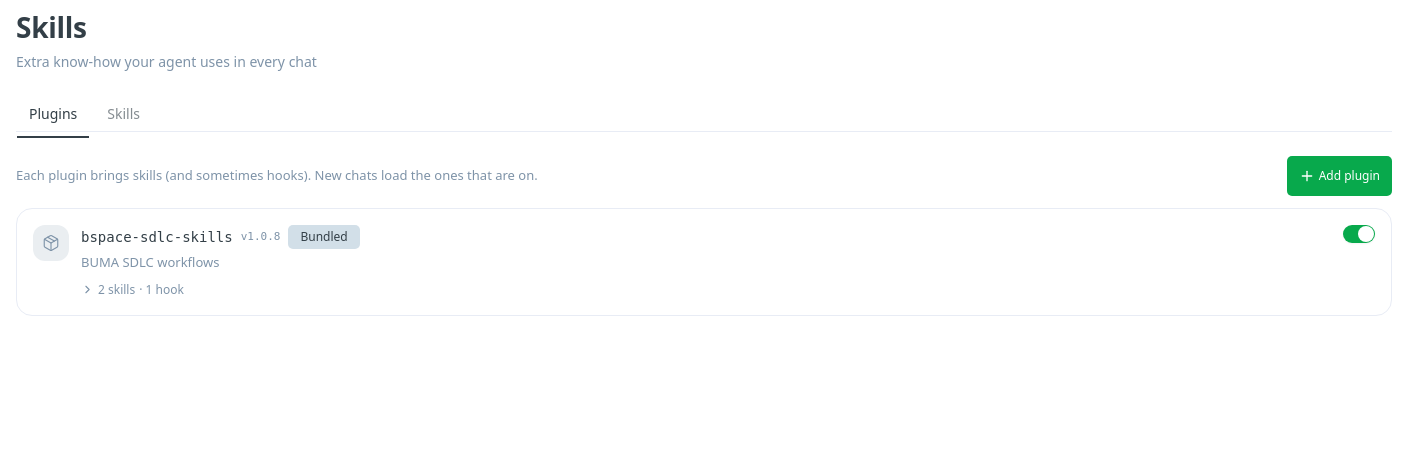
Test: Skills screen › opens on Plugins with the bundled plugin folded to one card; Skills has the user's own
Expected: the element with test id "plugin-bspace-sdlc-skills-bundled" shows "v1.0.8", [16,208,1392,316]
Expected: the element with test id "plugin-bspace-sdlc-skills-bundled" shows "Bundled", [300,228,348,245]
Click the button "2 skills · 1 hook" at [132, 290], box [81,280,184,298]
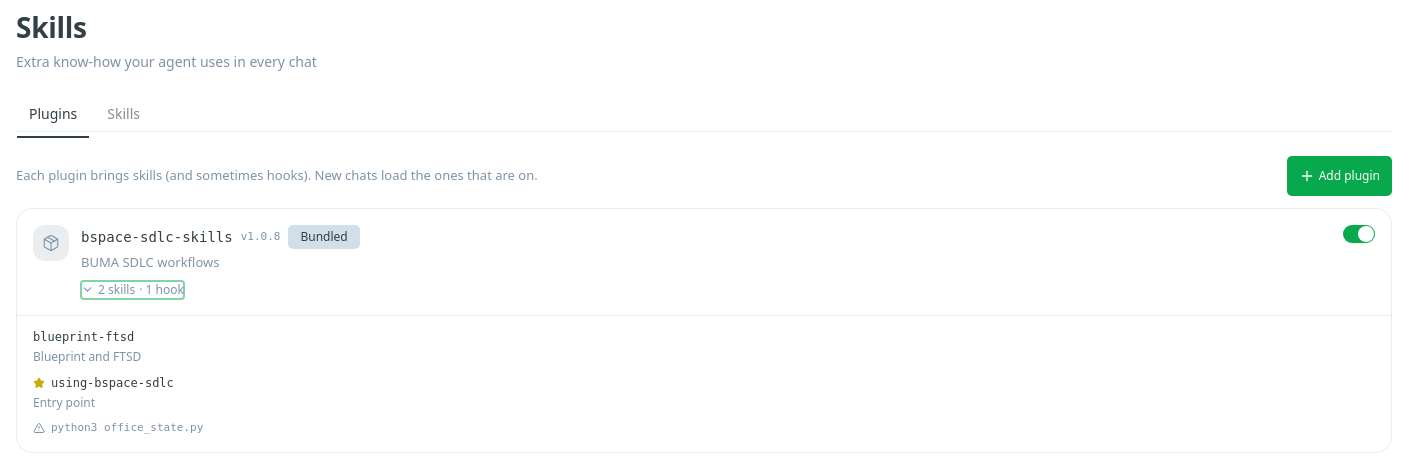
Result: the text "blueprint-ftsd" is shown at [33,330,134,344]
Result: the list item "python3 office_state.py" is shown at [33,420,203,434]
Click the tab "Skills" at [124, 114], box [94,94,153,134]
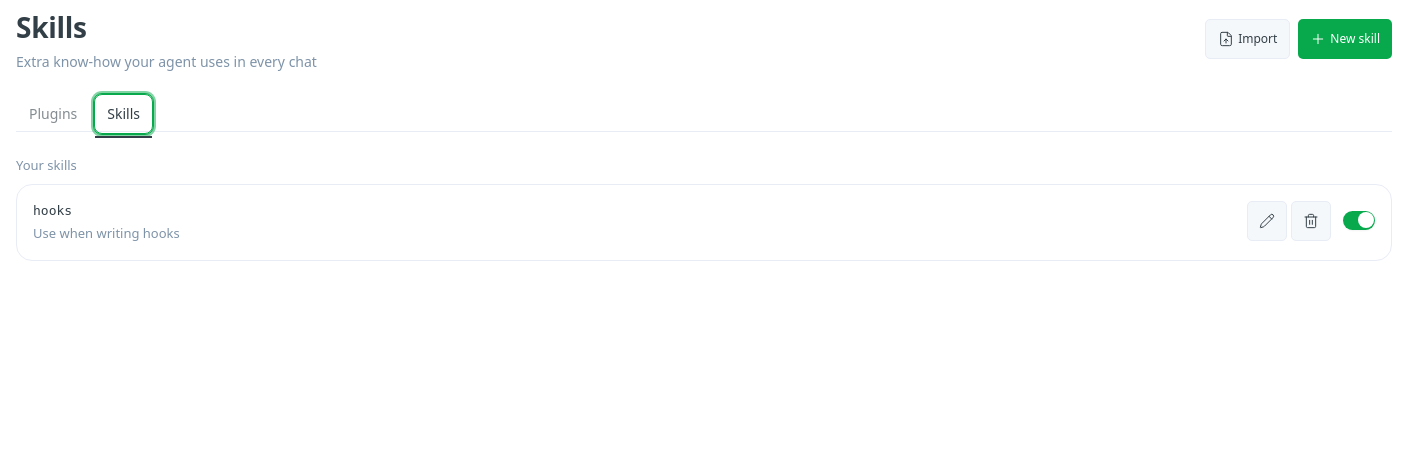
Result: the text "hooks" is shown at [33,202,72,218]
Result: the text "Use when writing hooks" is shown at [33,224,180,242]
